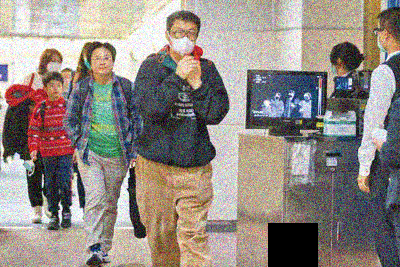with_mask: (170, 26, 199, 57), (45, 57, 62, 76)
without_mask: (89, 53, 116, 76), (47, 81, 64, 99)
